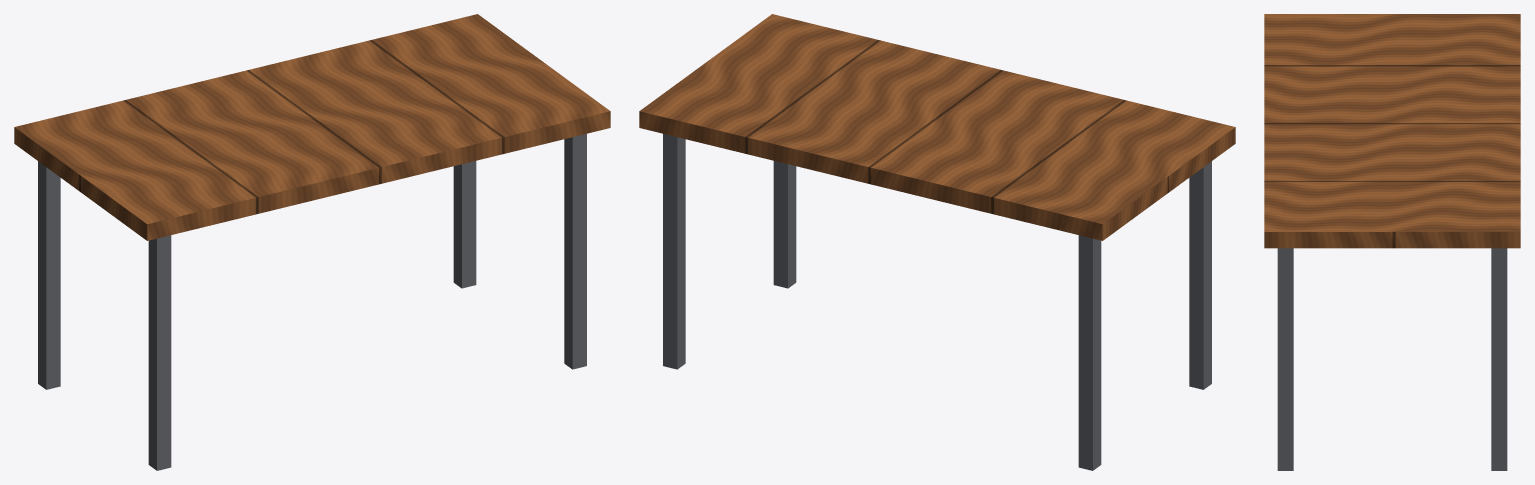
Rendered from Prop_DoubtDesk.glb.
The picture shows the model from 3 angles, left to right: view 1: azimuth 30°, elevation 25°; view 2: azimuth 150°, elevation 25°; view 3: azimuth 270°, elevation 25°; orthographic projection. The views are drawn at different scales.
Parts seen in each view (by area): view 1: Top, Leg_-0.65_-0.3, Leg_0.65_-0.3, Leg_-0.65_0.3, Leg_0.65_0.3; view 2: Top, Leg_-0.65_0.3, Leg_0.65_0.3, Leg_-0.65_-0.3, Leg_0.65_-0.3; view 3: Top, Leg_0.65_0.3, Leg_0.65_-0.3.
Part boxes in pixels (x1,y1,x2,y2): Top: [14, 14, 610, 240]; Leg_-0.65_-0.3: [148, 235, 171, 470]; Leg_0.65_-0.3: [564, 134, 586, 369]; Leg_-0.65_0.3: [38, 161, 60, 389]; Leg_0.65_0.3: [453, 161, 476, 288]; Top: [639, 14, 1235, 240]; Leg_-0.65_0.3: [1078, 235, 1101, 470]; Leg_0.65_0.3: [663, 134, 685, 369]; Leg_-0.65_-0.3: [1189, 161, 1211, 389]; Leg_0.65_-0.3: [773, 161, 796, 288]; Top: [1264, 14, 1520, 248]; Leg_0.65_0.3: [1491, 248, 1507, 470]; Leg_0.65_-0.3: [1277, 248, 1293, 470].
Bounding box in the file's own units: 1.45 × 0.765 × 0.72.
Materials: 2 (1 with a texture image).
